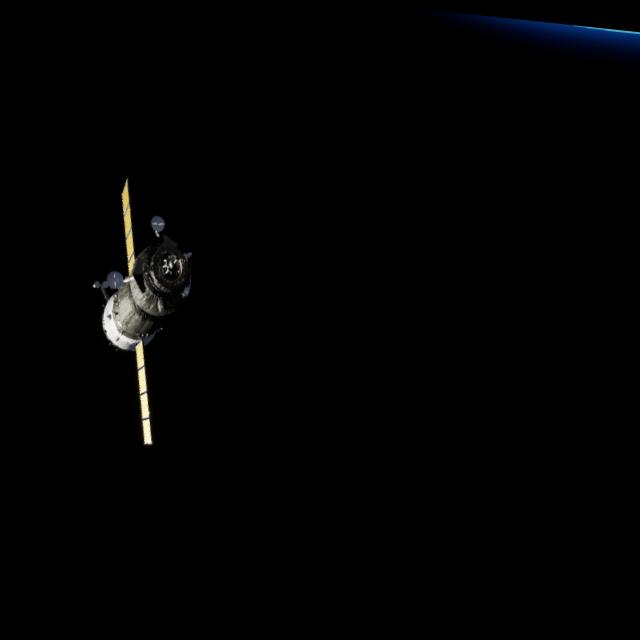Satellites revolving around earth: (74, 173, 204, 451)
